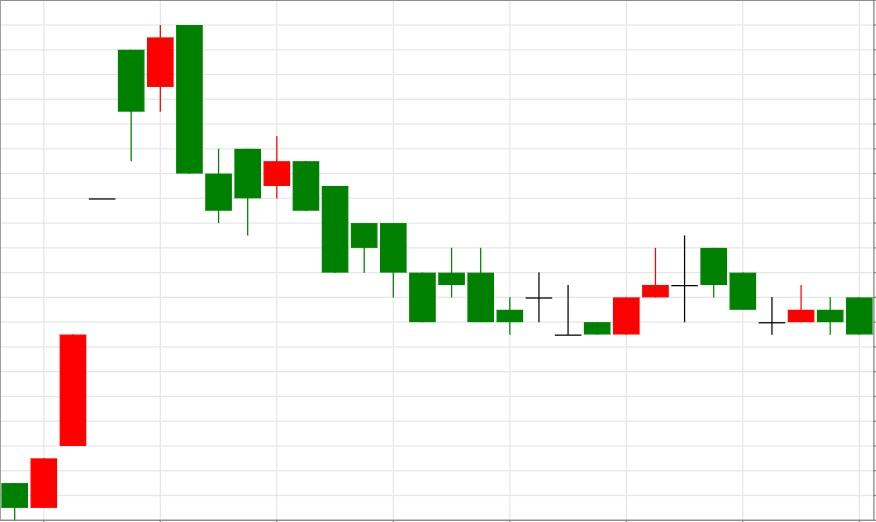bearish_engulfing_fall: (0, 25, 203, 521)
bullish_engulfing_rise: (525, 272, 640, 337)
